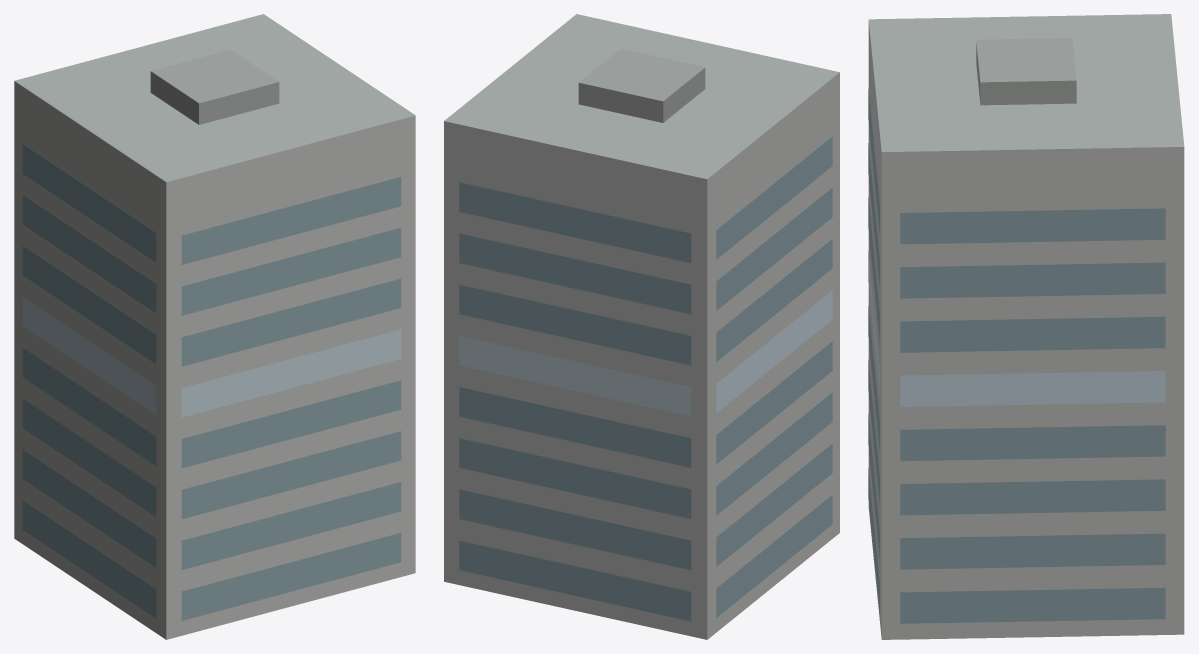
The model's file is apt-a10023219.glb.
3 views of the same model, side by side, from view 1: azimuth 30°, elevation 25°; view 2: azimuth 150°, elevation 25°; view 3: azimuth 270°, elevation 25° (orthographic). The views are drawn at different scales.
Parts seen in each view (by area): view 1: apt-a10023219; view 2: apt-a10023219; view 3: apt-a10023219.
Part boxes in pixels (x1,y1,x2,y2): apt-a10023219: (14,14,415,639); apt-a10023219: (444,14,839,639); apt-a10023219: (868,14,1184,639).
Bounding box in the file's own units: 14.53 × 25 × 14.02.
